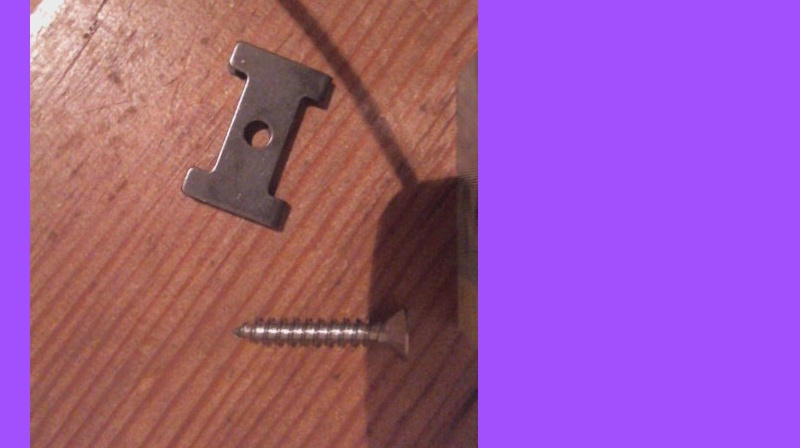O002: (178, 35, 336, 231)
S001: (231, 305, 416, 365)
